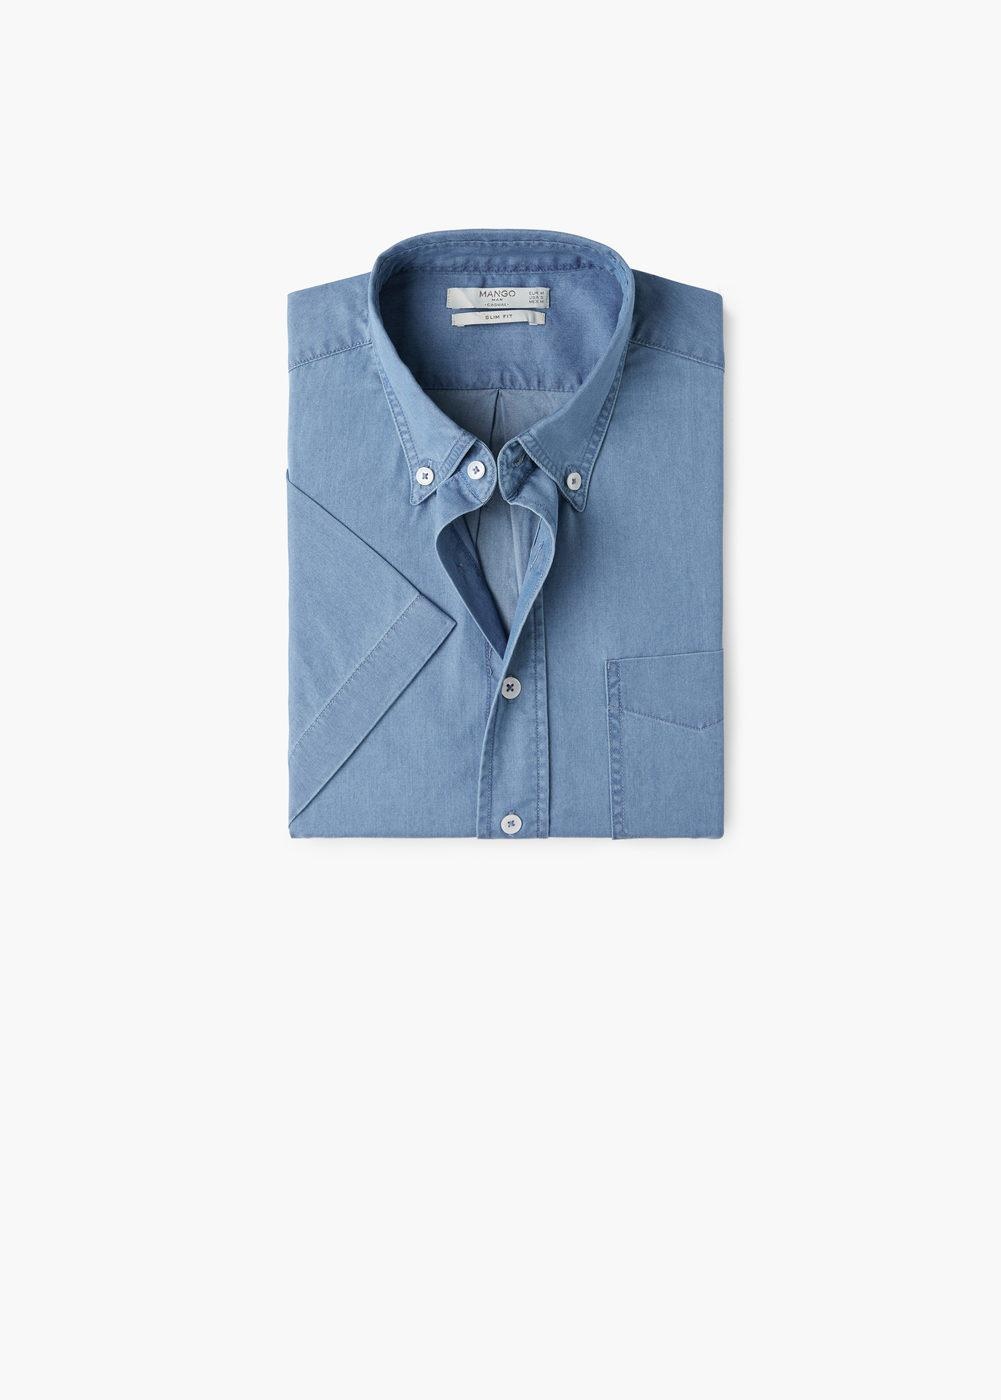teeshirt: (225, 212, 742, 872)
